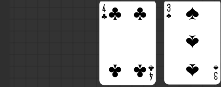4C: (147, 64, 156, 82)
